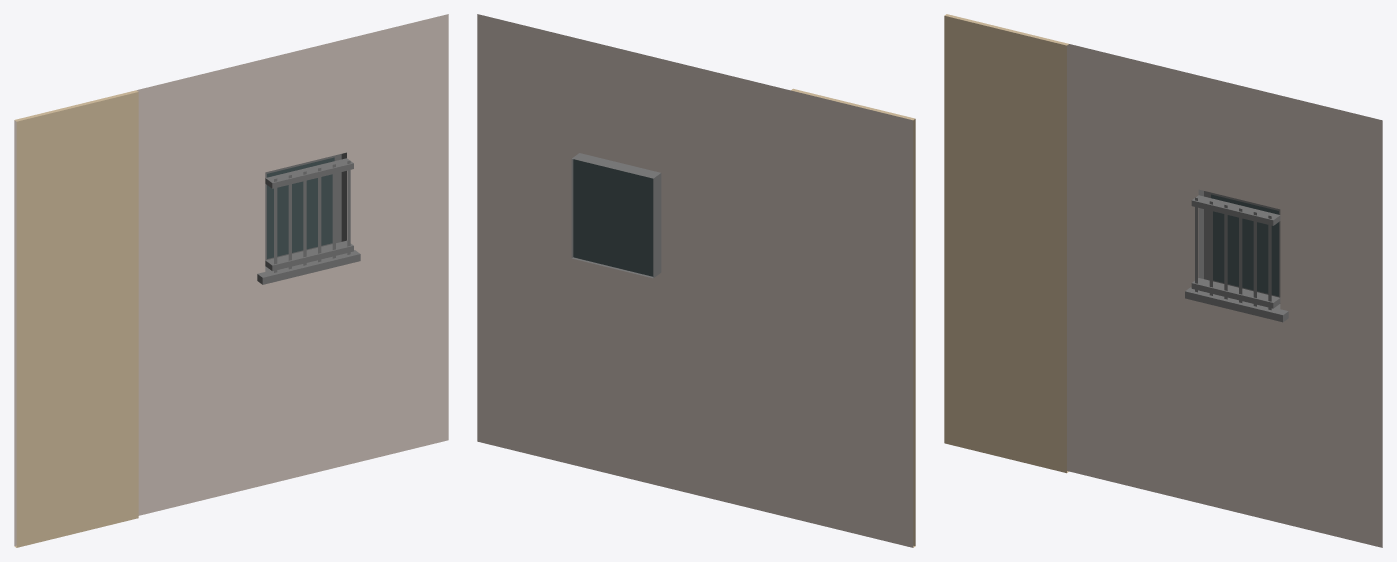
File: mid-w4.fbx
3 renders of one model, left to right at view 1: azimuth 30°, elevation 25°; view 2: azimuth 150°, elevation 25°; view 3: azimuth 330°, elevation 25°, orthographic.
Parts seen in each view (by area): view 1: a2001/200/mid-w4; view 2: a2001/200/mid-w4; view 3: a2001/200/mid-w4.
Boxes of the visible parts, x1,y1,x2,y2 form: a2001/200/mid-w4: (14, 14, 448, 547); a2001/200/mid-w4: (477, 14, 915, 547); a2001/200/mid-w4: (944, 14, 1382, 547).
Bounding box in the file's own units: 3.2 × 3 × 0.19.
